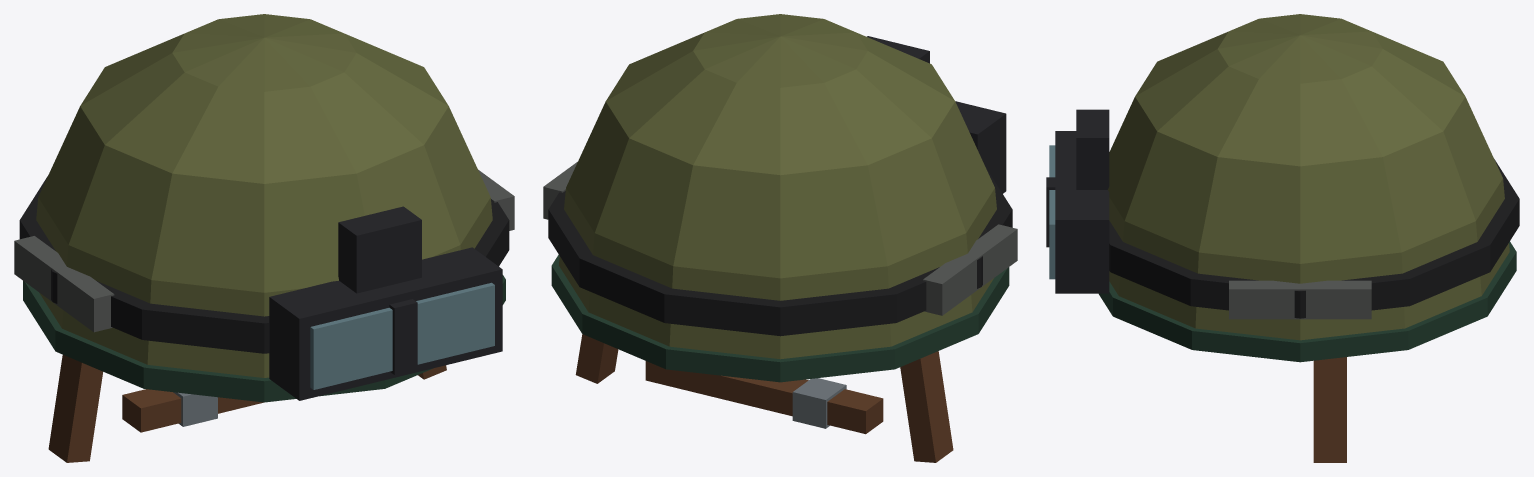
File: army_helmet.glb
The picture shows the model from 3 angles, left to right: view 1: azimuth 30°, elevation 25°; view 2: azimuth 150°, elevation 25°; view 3: azimuth 270°, elevation 25°; orthographic projection. The views are drawn at different scales.
Visible parts, largest first — view 1: army_helmet; view 2: army_helmet; view 3: army_helmet.
Boxes of the visible parts, left/top/right/bottom form: army_helmet: left=14, top=14, right=514, bottom=462; army_helmet: left=543, top=14, right=1017, bottom=462; army_helmet: left=1046, top=14, right=1519, bottom=462.
Size of the model in its own units: 0.292 by 0.2556 by 0.315.
2 materials, 2 textured.
